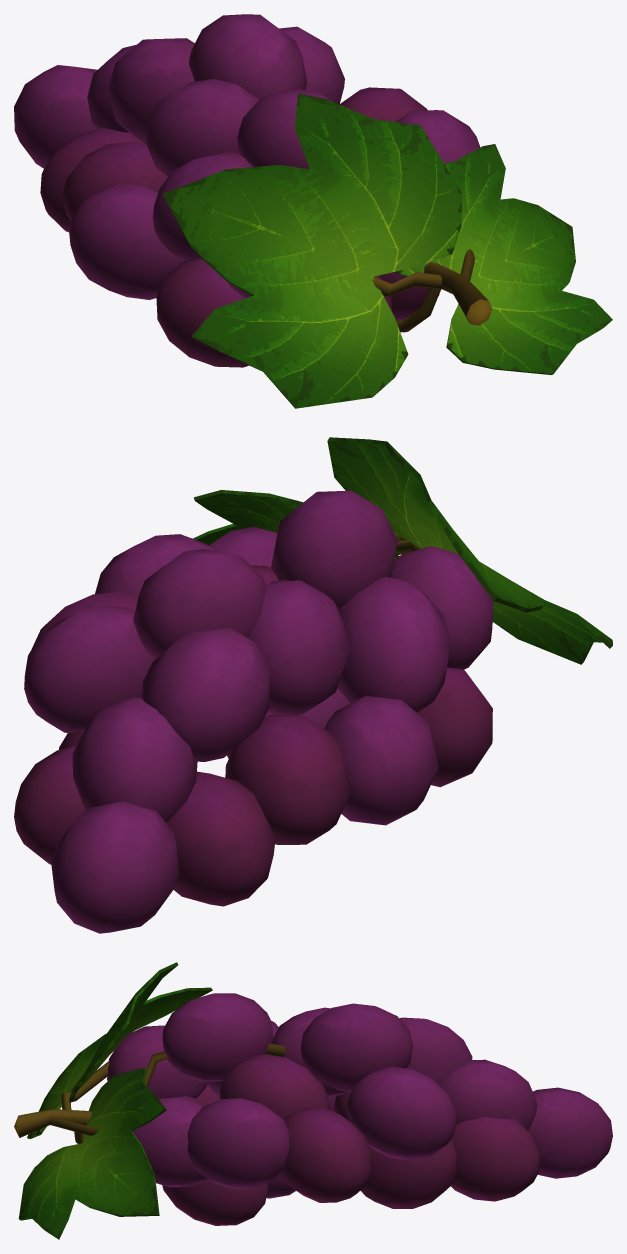
File: Grapes_Purple.fbx
The picture shows the model from 3 angles, top to bottom: view 1: azimuth 30°, elevation 25°; view 2: azimuth 150°, elevation 25°; view 3: azimuth 270°, elevation 25°; orthographic projection. The views are drawn at different scales.
Parts seen in each view (by area): view 1: Grapes_Purple; view 2: Grapes_Purple; view 3: Grapes_Purple.
Boxes of the visible parts, x1,y1,x2,y2 form: Grapes_Purple: (14, 14, 612, 408); Grapes_Purple: (14, 437, 612, 933); Grapes_Purple: (14, 962, 612, 1239).
Bounding box in the file's own units: 47.98 × 29.92 × 75.13.
